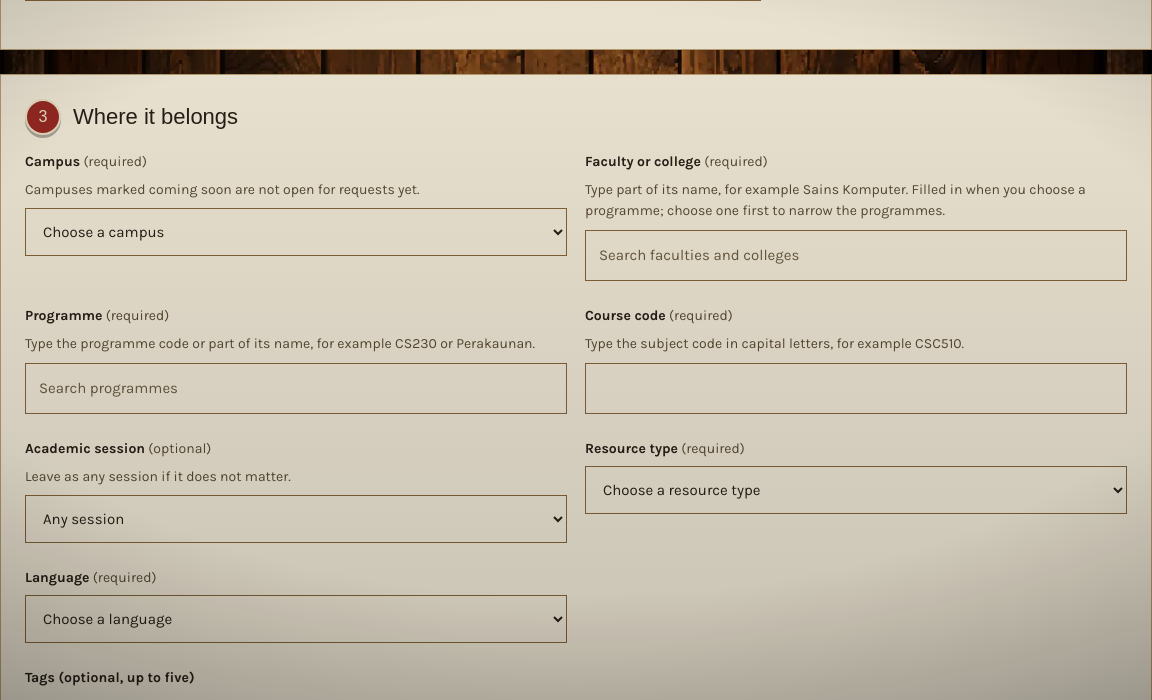
Test: the intake form › suggests the course codes already in use
The width and height of the screenshot is (1152, 700).
(page scrolled)
Focus the dropdown labelled "Course code (required)". click: (856, 388)
box: [585,363,1127,414]
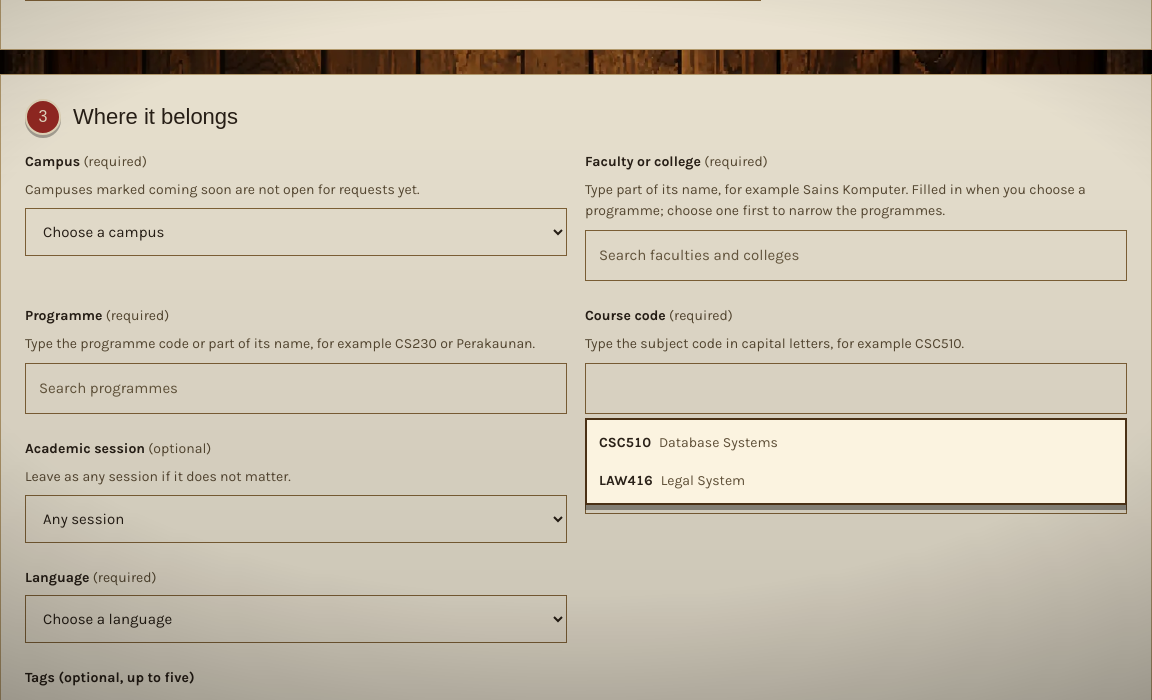
Expected: the option "CSC510 Database Systems" is shown, [599,434,778,451]
